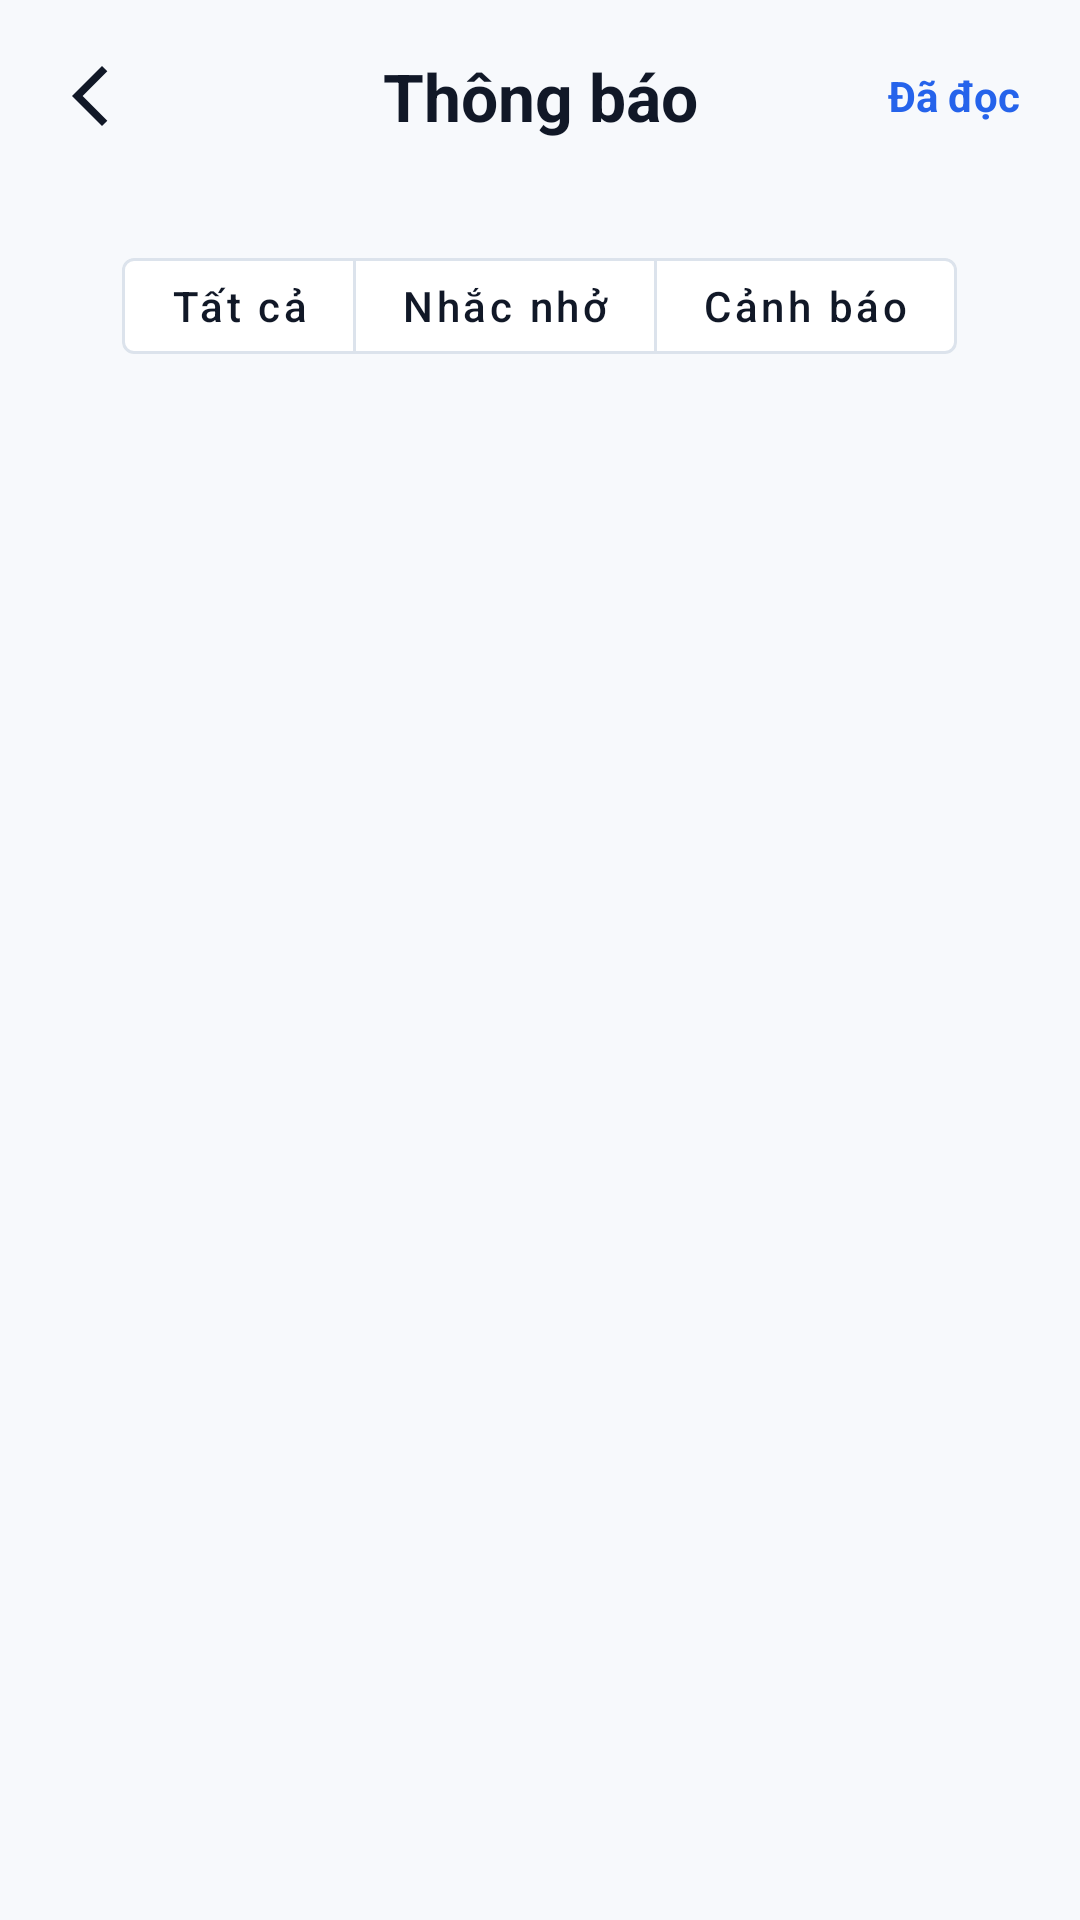

Locate icon controls on the screen. Image size 1080x1920, boxes as (x1, y1, x2, y2).
Quay lại: (72, 66, 107, 126)
